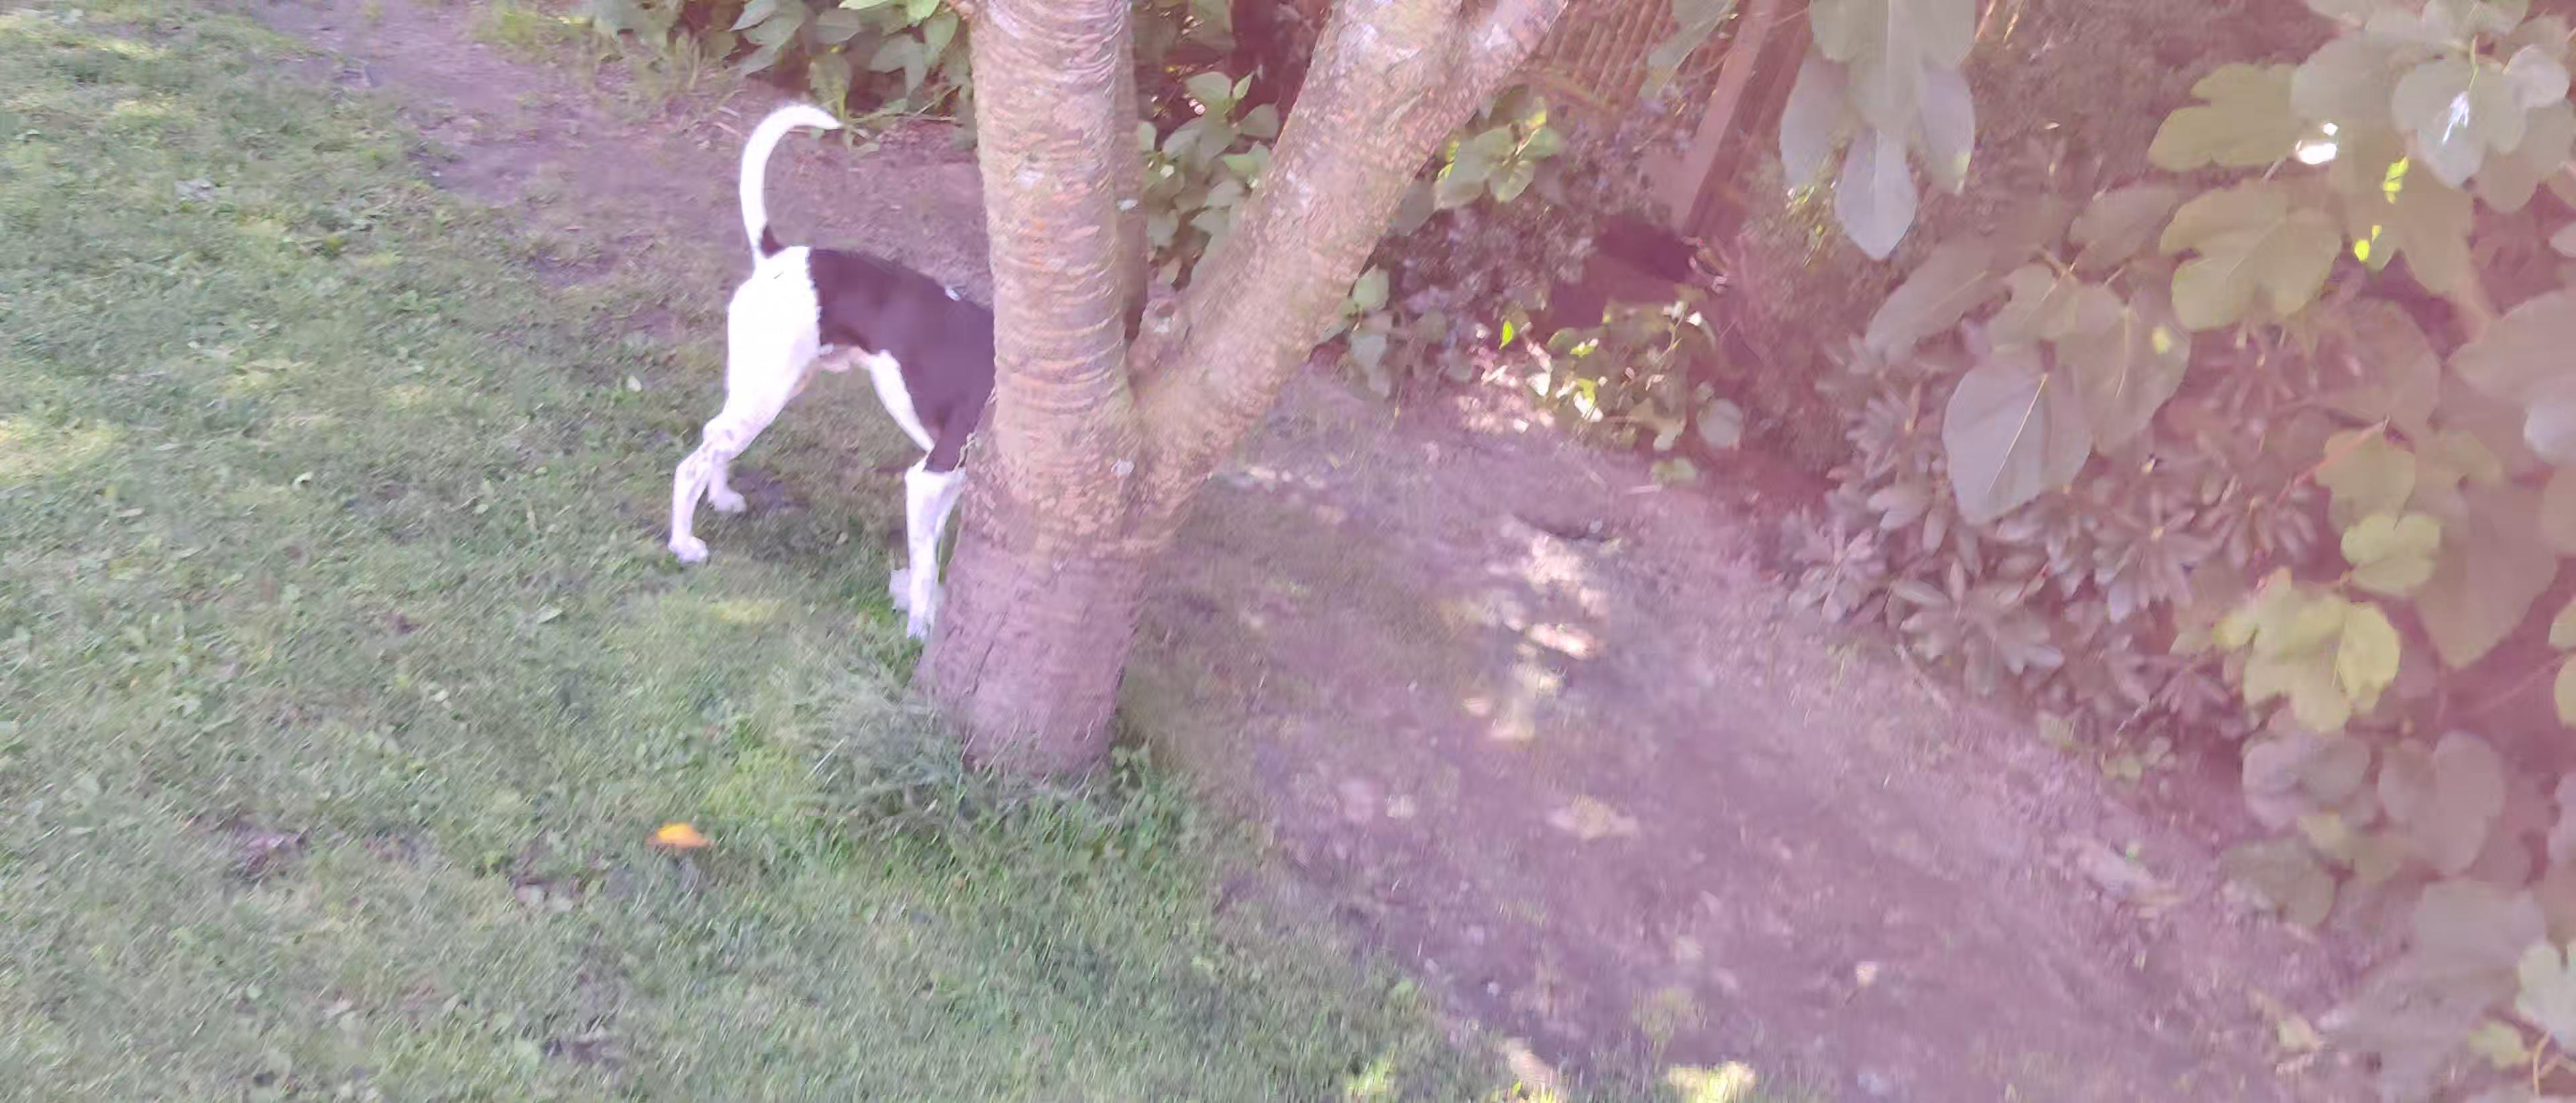Dog: (647, 90, 1032, 664)
